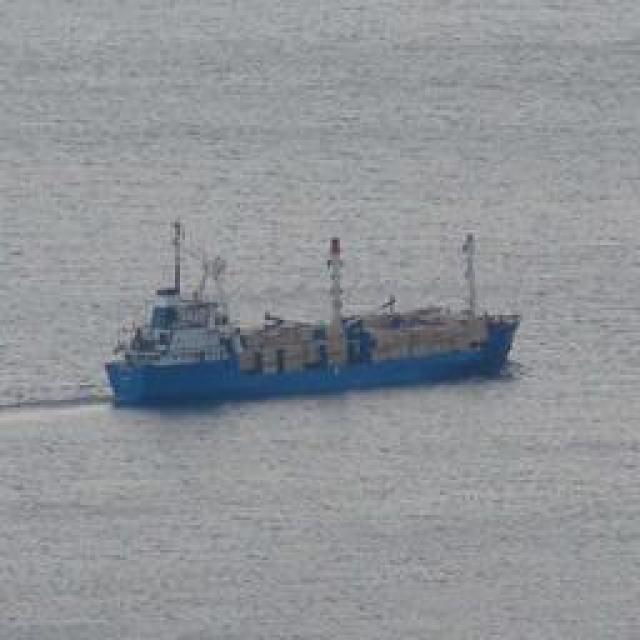CIV_Ship: (100, 219, 520, 409)
